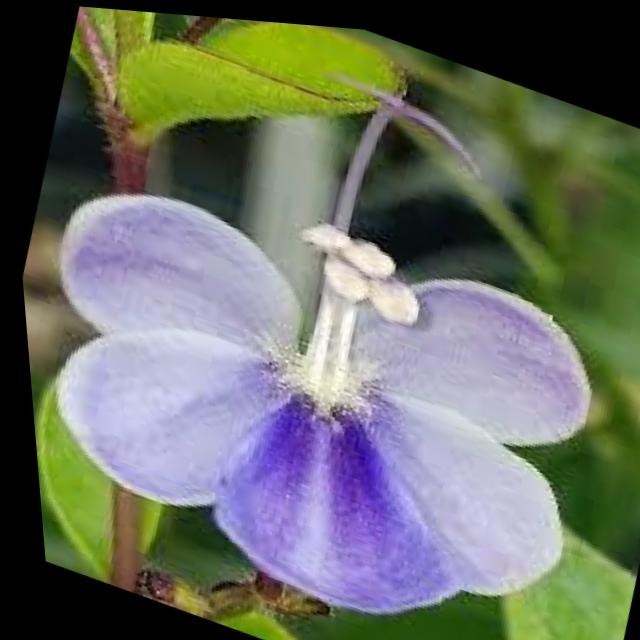Flower: (8, 123, 637, 640)
